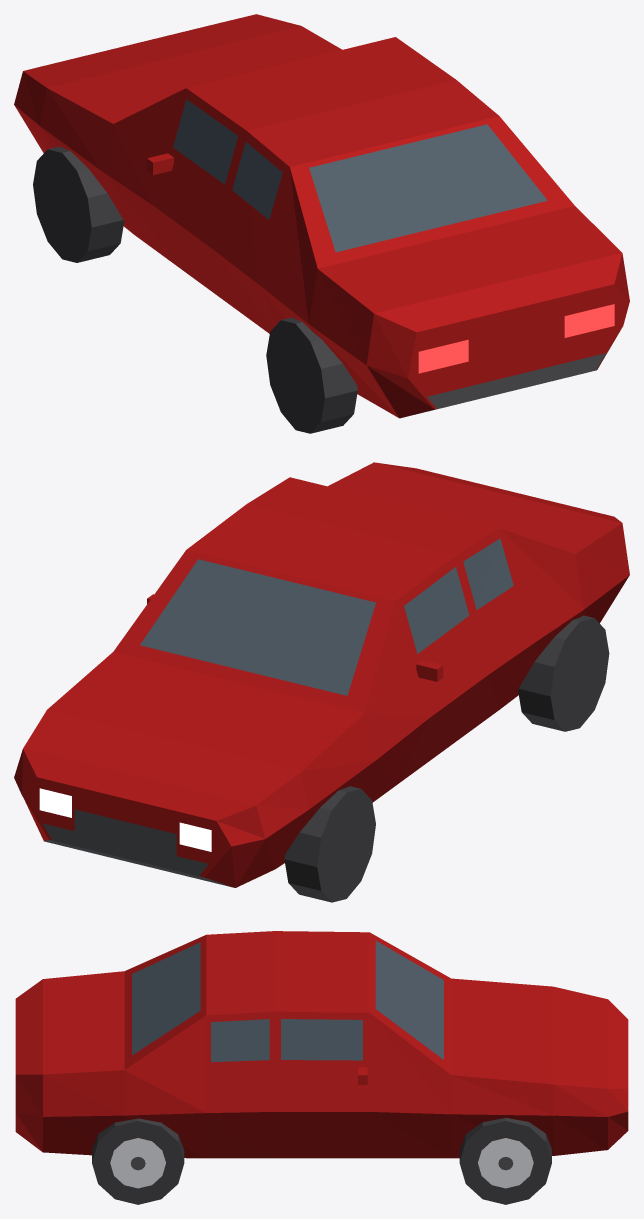
File: sedan_lowpoly.glb
3 views of the same model, one above another, from view 1: azimuth 30°, elevation 25°; view 2: azimuth 150°, elevation 25°; view 3: azimuth 270°, elevation 25° (orthographic). The views are drawn at different scales.
Parts seen in each view (by area): view 1: Body, Wheel_RR, Wheel_FR; view 2: Body, Wheel_FR, Wheel_RR; view 3: Body, Wheel_FL, Wheel_RL.
Boxes of the visible parts, <box> form: Body: <box>14,14,629,418</box>; Wheel_RR: <box>266,317,357,433</box>; Wheel_FR: <box>33,146,124,262</box>; Body: <box>14,462,629,887</box>; Wheel_FR: <box>284,786,375,902</box>; Wheel_RR: <box>518,615,609,731</box>; Body: <box>15,931,628,1158</box>; Wheel_FL: <box>459,1118,551,1204</box>; Wheel_RL: <box>92,1118,184,1204</box>.
Size of the model in its own units: 1.94 by 1.45 by 4.52.
